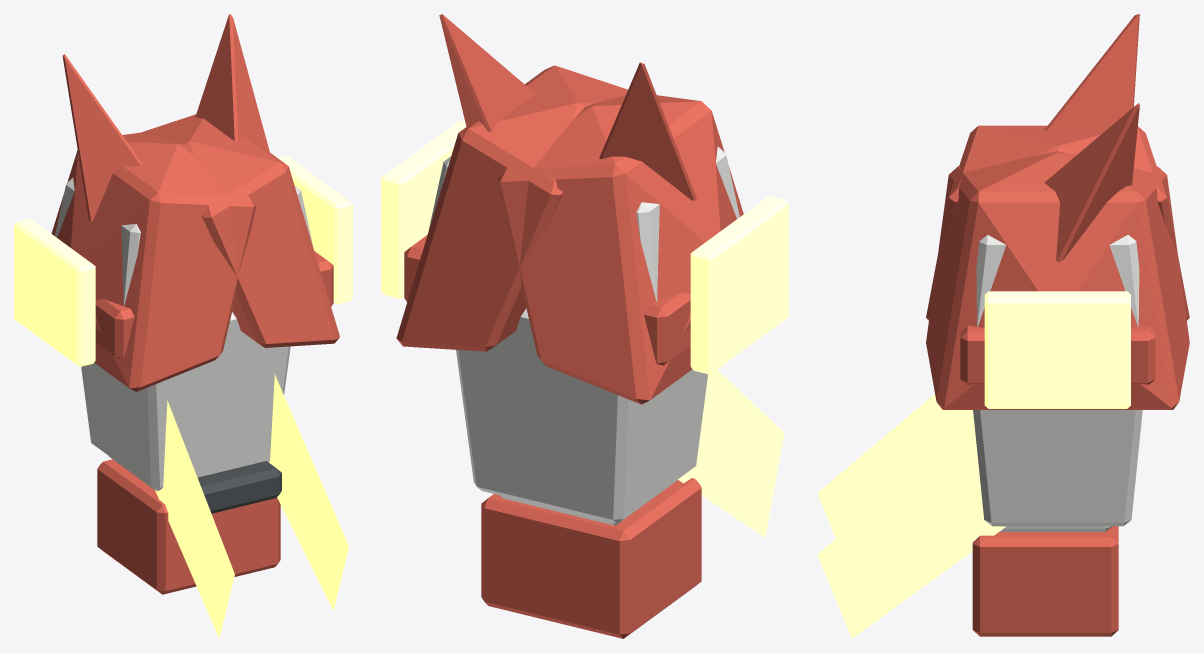
File: arms.glb
The picture shows the model from 3 angles, left to right: view 1: azimuth 30°, elevation 25°; view 2: azimuth 150°, elevation 25°; view 3: azimuth 270°, elevation 25°; orthographic projection. The views are drawn at different scales.
Visible parts, largest first — view 1: arms__brawler__RightArm, arms__brawler__LeftArm, arms__brawler__LeftForeArm, arms__brawler__RightForeArm, arms__blade__LeftForeArm, arms__blade__RightForeArm, arms__blade__RightArm, arms__blade__LeftArm, arms__strike__RightArm, arms__strike__LeftArm; view 2: arms__brawler__RightArm, arms__brawler__LeftForeArm, arms__brawler__LeftArm, arms__brawler__RightForeArm, arms__blade__RightForeArm, arms__blade__RightArm, arms__blade__LeftArm, arms__strike__RightArm, arms__strike__LeftArm; view 3: arms__brawler__LeftArm, arms__brawler__LeftForeArm, arms__blade__LeftForeArm, arms__blade__RightForeArm, arms__blade__LeftArm, arms__brawler__RightArm, arms__strike__LeftArm, arms__blade__RightArm, arms__brawler__RightForeArm, arms__strike__LeftForeArm.
Boxes of the visible parts, x1,y1,x2,y2 form: arms__brawler__RightArm: [14, 132, 256, 391]; arms__brawler__LeftArm: [141, 114, 352, 347]; arms__brawler__LeftForeArm: [97, 316, 290, 594]; arms__brawler__RightForeArm: [81, 312, 281, 594]; arms__blade__LeftForeArm: [268, 374, 348, 610]; arms__blade__RightForeArm: [155, 400, 234, 638]; arms__blade__RightArm: [62, 54, 142, 221]; arms__blade__LeftArm: [195, 14, 269, 152]; arms__strike__RightArm: [55, 178, 140, 359]; arms__strike__LeftArm: [295, 186, 333, 306]; arms__brawler__RightArm: [497, 95, 788, 404]; arms__brawler__LeftForeArm: [456, 308, 701, 638]; arms__brawler__LeftArm: [381, 65, 627, 351]; arms__brawler__RightForeArm: [469, 312, 707, 637]; arms__blade__RightForeArm: [678, 369, 784, 537]; arms__blade__RightArm: [599, 62, 696, 200]; arms__blade__LeftArm: [439, 14, 535, 131]; arms__strike__RightArm: [636, 147, 739, 365]; arms__strike__LeftArm: [404, 156, 450, 301]; arms__brawler__LeftArm: [926, 151, 1189, 409]; arms__brawler__LeftForeArm: [972, 410, 1142, 636]; arms__blade__LeftForeArm: [817, 419, 1005, 638]; arms__blade__RightForeArm: [817, 394, 973, 537]; arms__blade__LeftArm: [1044, 103, 1139, 261]; arms__brawler__RightArm: [926, 125, 1189, 320]; arms__strike__LeftArm: [960, 235, 1155, 384]; arms__blade__RightArm: [1044, 14, 1139, 130]; arms__brawler__RightForeArm: [972, 527, 1118, 636]; arms__strike__LeftForeArm: [999, 526, 1111, 531].
Size of the model in its own units: 0.29 by 0.4981 by 0.306.
